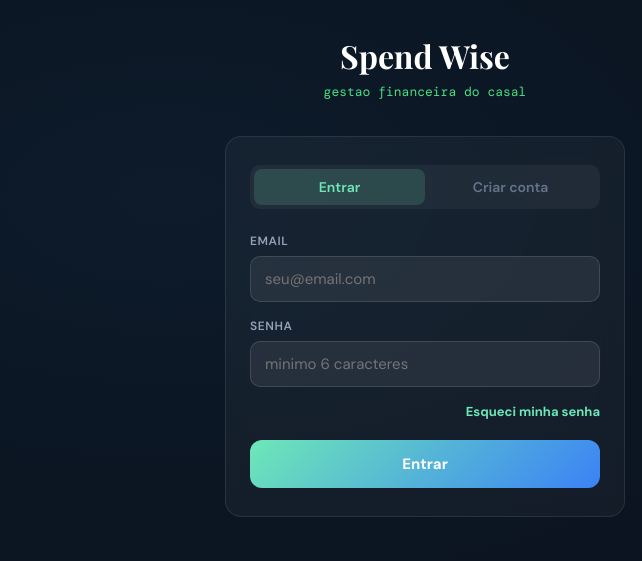
Test: AuthScreen › requires email before sending password reset
This screenshot has width=642, height=561.
What coordinates should you click on to do the following:
click the button "Esqueci minha senha"
I would click on:
 (533, 411)
Its box is x1=466 y1=402 x2=600 y2=420.
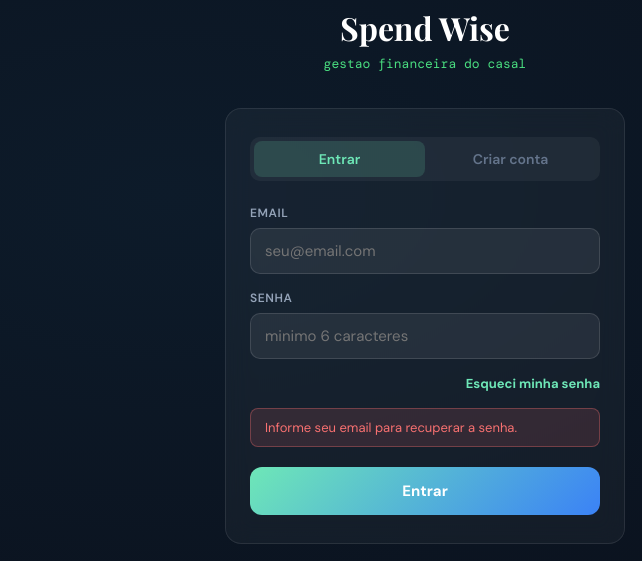
Expected: the text "Informe seu email para recuperar a senha." is shown, x1=250 y1=408 x2=600 y2=447
